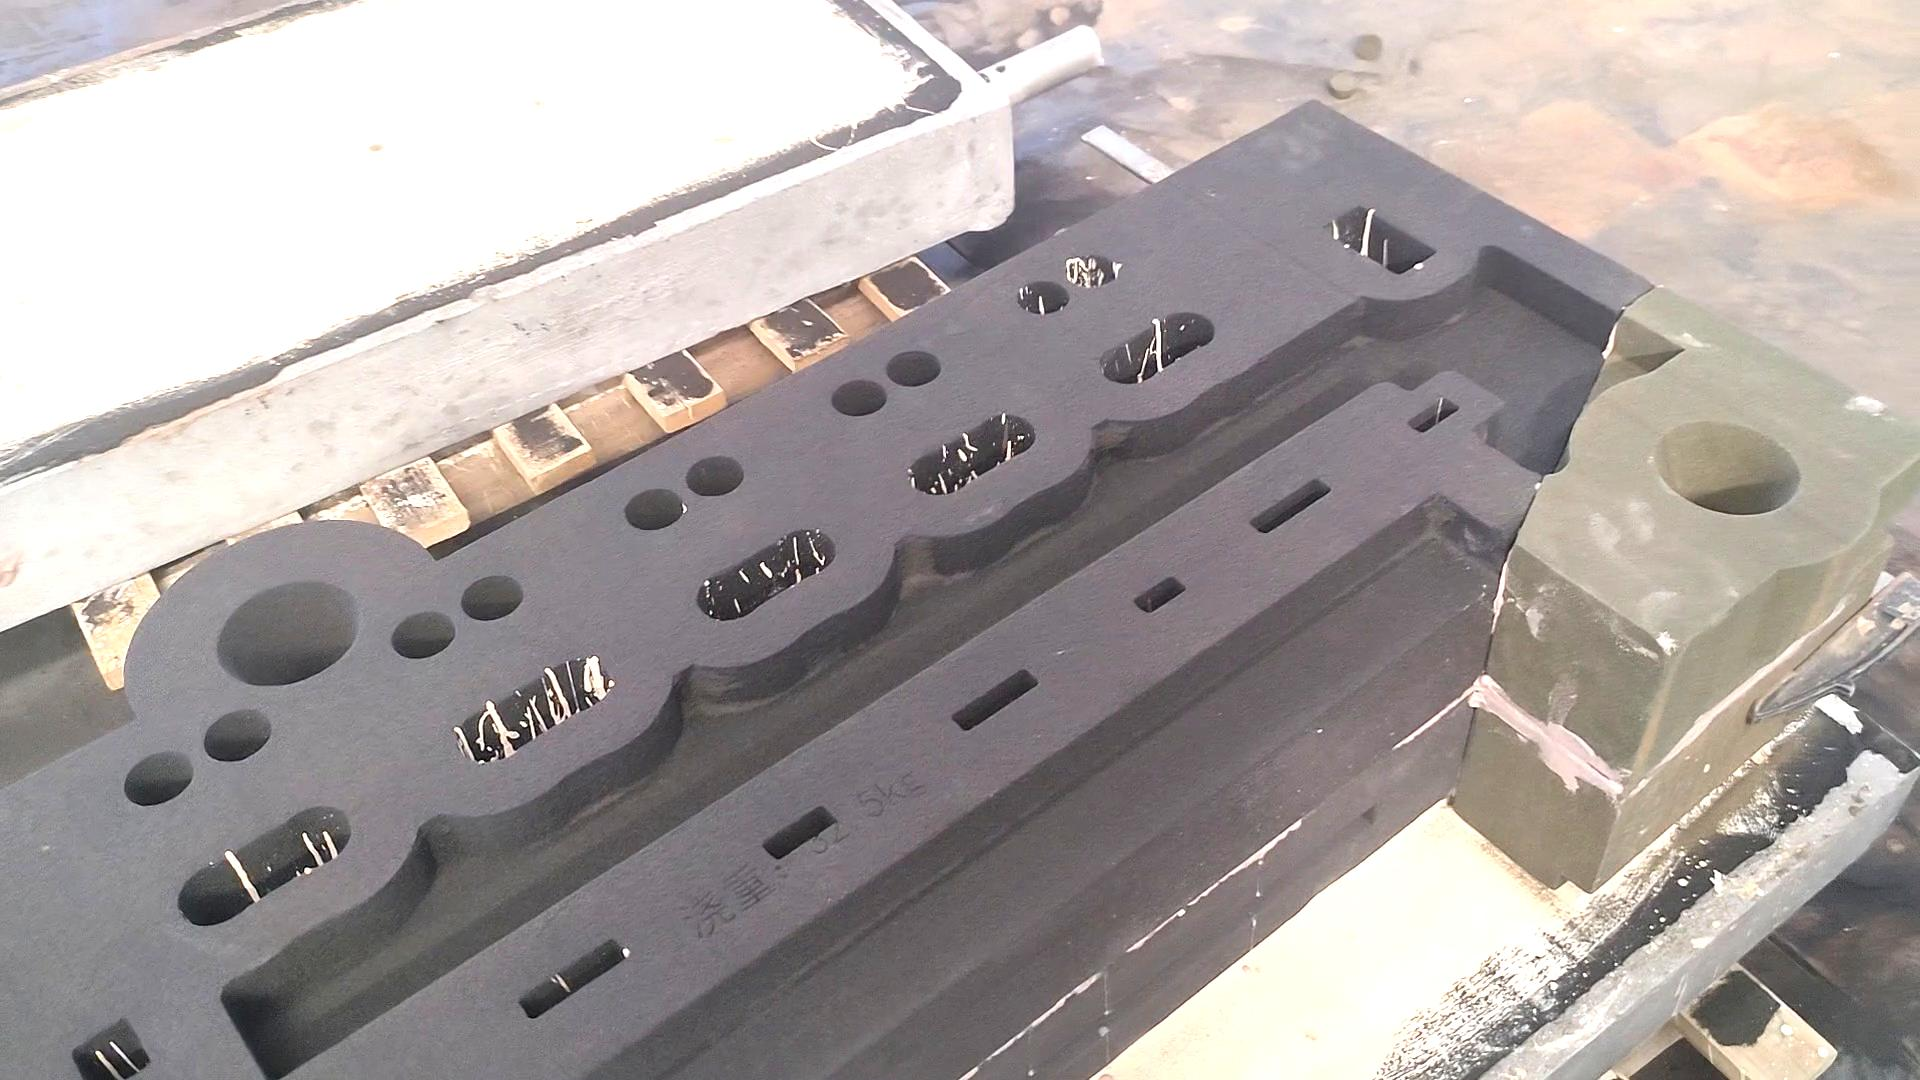pouring hole: (214, 578, 359, 688), (1654, 419, 1801, 516)
